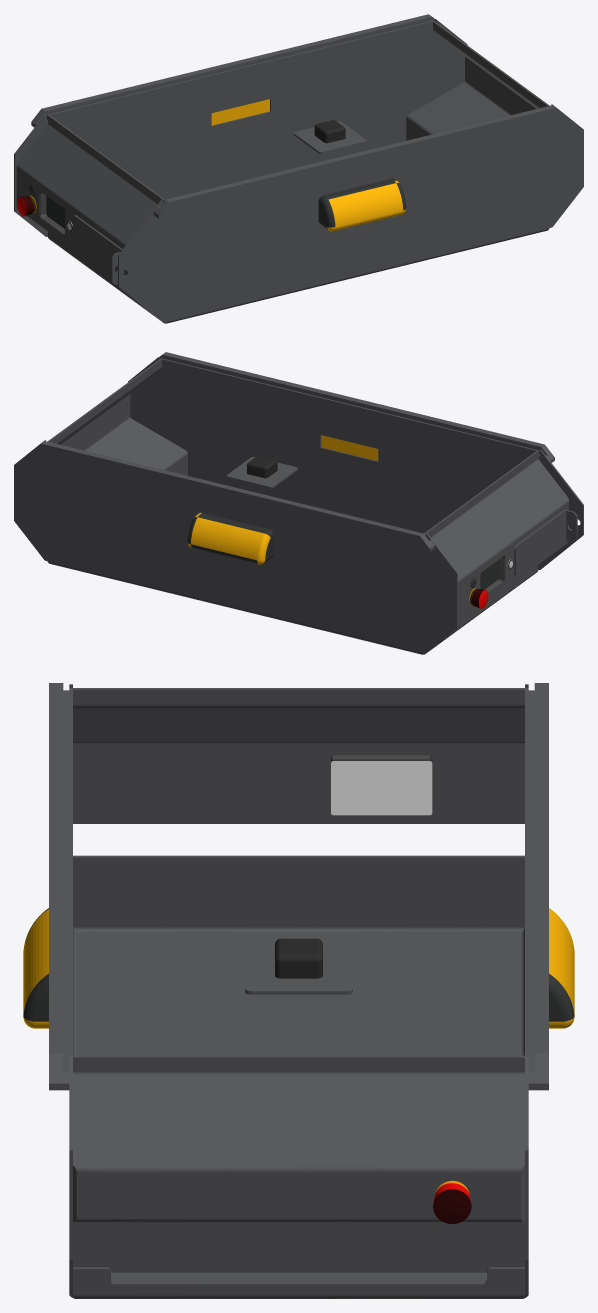
The model's file is chassis.dae.
3 renders of one model, top to bottom at view 1: azimuth 30°, elevation 25°; view 2: azimuth 150°, elevation 25°; view 3: azimuth 270°, elevation 25°, orthographic. The views are drawn at different scales.
Visible parts, largest first — view 1: Shape_IndexedFaceSet.029, Shape_IndexedFaceSet.027, Shape_IndexedFaceSet.028, Shape_IndexedFaceSet.024, Shape_IndexedFaceSet.017, Shape_IndexedFaceSet.015, Shape_IndexedFaceSet.023, Shape_IndexedFaceSet.014; view 2: Shape_IndexedFaceSet.029, Shape_IndexedFaceSet.028, Shape_IndexedFaceSet.027, Shape_IndexedFaceSet.023, Shape_IndexedFaceSet.017, Shape_IndexedFaceSet.015, Shape_IndexedFaceSet.024, Shape_IndexedFaceSet.014; view 3: Shape_IndexedFaceSet.029, Shape_IndexedFaceSet.027, Shape_IndexedFaceSet.028, Shape_IndexedFaceSet.019, Shape_IndexedFaceSet.015, Shape_IndexedFaceSet.024, Shape_IndexedFaceSet.023, Shape_IndexedFaceSet.014, Shape_IndexedFaceSet.016.
Boxes of the visible parts, x1=… form: Shape_IndexedFaceSet.029: x1=14, y1=19, x2=583, y2=323; Shape_IndexedFaceSet.027: x1=153, y1=105, x2=566, y2=218; Shape_IndexedFaceSet.028: x1=31, y1=14, x2=434, y2=127; Shape_IndexedFaceSet.024: x1=318, y1=178, x2=406, y2=231; Shape_IndexedFaceSet.017: x1=72, y1=215, x2=124, y2=284; Shape_IndexedFaceSet.015: x1=293, y1=121, x2=366, y2=153; Shape_IndexedFaceSet.023: x1=211, y1=99, x2=269, y2=125; Shape_IndexedFaceSet.014: x1=314, y1=120, x2=345, y2=143; Shape_IndexedFaceSet.029: x1=14, y1=356, x2=583, y2=654; Shape_IndexedFaceSet.028: x1=31, y1=441, x2=434, y2=552; Shape_IndexedFaceSet.027: x1=160, y1=352, x2=554, y2=462; Shape_IndexedFaceSet.023: x1=188, y1=513, x2=273, y2=564; Shape_IndexedFaceSet.017: x1=514, y1=510, x2=577, y2=575; Shape_IndexedFaceSet.015: x1=226, y1=457, x2=297, y2=488; Shape_IndexedFaceSet.024: x1=321, y1=435, x2=378, y2=460; Shape_IndexedFaceSet.014: x1=247, y1=455, x2=277, y2=478; Shape_IndexedFaceSet.029: x1=69, y1=684, x2=528, y2=1298; Shape_IndexedFaceSet.027: x1=49, y1=683, x2=69, y2=1090; Shape_IndexedFaceSet.028: x1=528, y1=683, x2=548, y2=1090; Shape_IndexedFaceSet.019: x1=331, y1=759, x2=432, y2=815; Shape_IndexedFaceSet.015: x1=245, y1=945, x2=352, y2=994; Shape_IndexedFaceSet.024: x1=23, y1=908, x2=48, y2=1028; Shape_IndexedFaceSet.023: x1=549, y1=908, x2=574, y2=1028; Shape_IndexedFaceSet.014: x1=275, y1=938, x2=322, y2=978; Shape_IndexedFaceSet.016: x1=433, y1=1183, x2=471, y2=1223.
Bounding box in the file's own units: 0.8985 × 0.4606 × 0.2296.
